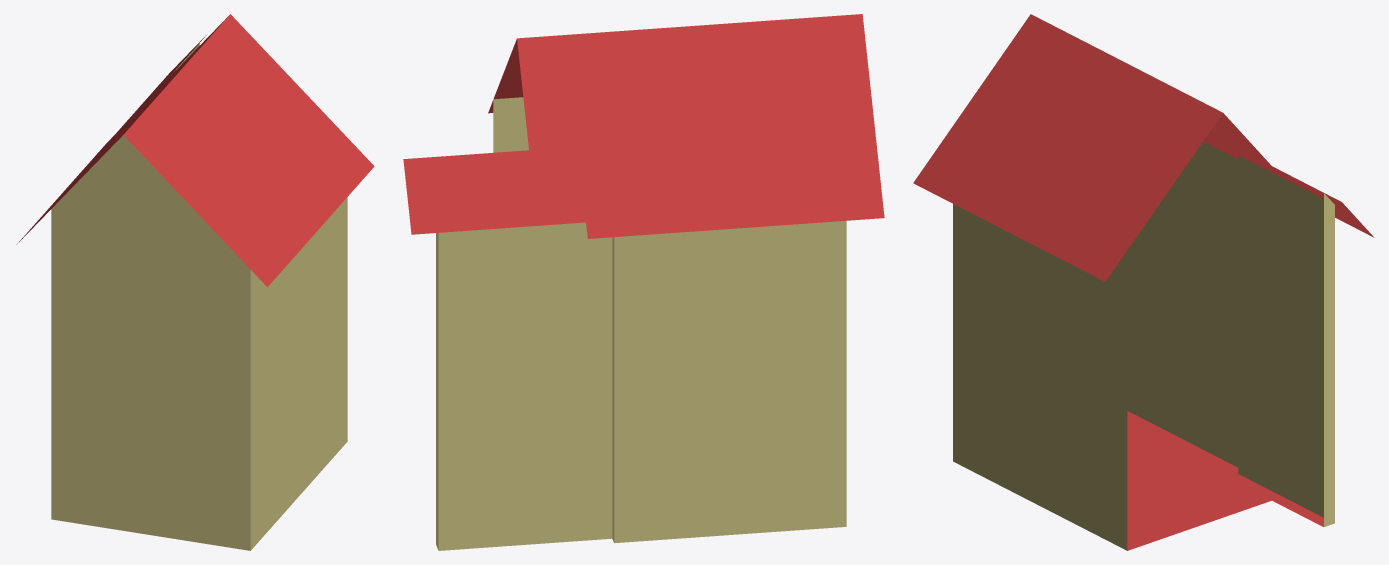
3 views of the same model, side by side, from view 1: azimuth 30°, elevation 25°; view 2: azimuth 150°, elevation 25°; view 3: azimuth 270°, elevation 25° (orthographic). The views are drawn at different scales.
Size of the model in its own units: 7.1 by 8.12 by 7.86.
